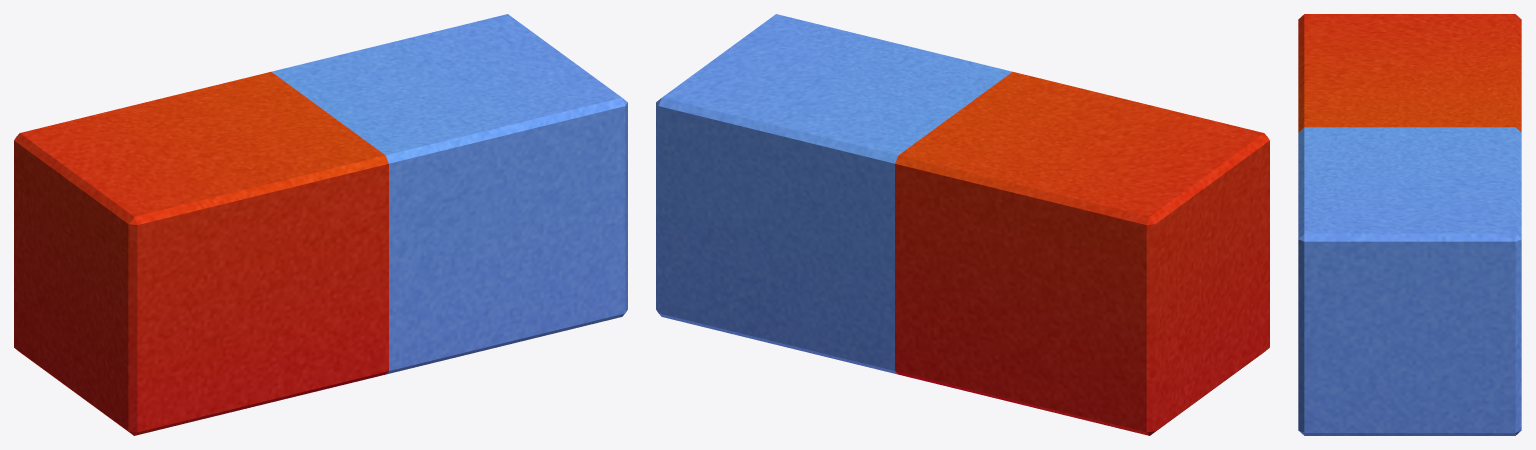
File: magnet.fbx
3 views of the same model, side by side, from view 1: azimuth 30°, elevation 25°; view 2: azimuth 150°, elevation 25°; view 3: azimuth 270°, elevation 25° (orthographic). The views are drawn at different scales.
Parts seen in each view (by area): view 1: 04-magnet; view 2: 04-magnet; view 3: 04-magnet.
Part boxes in pixels (x1,y1,x2,y2): 04-magnet: (14,14,627,435); 04-magnet: (656,14,1269,435); 04-magnet: (1298,14,1521,435).
Size of the model in its own units: 143050 by 60000 by 60000.
